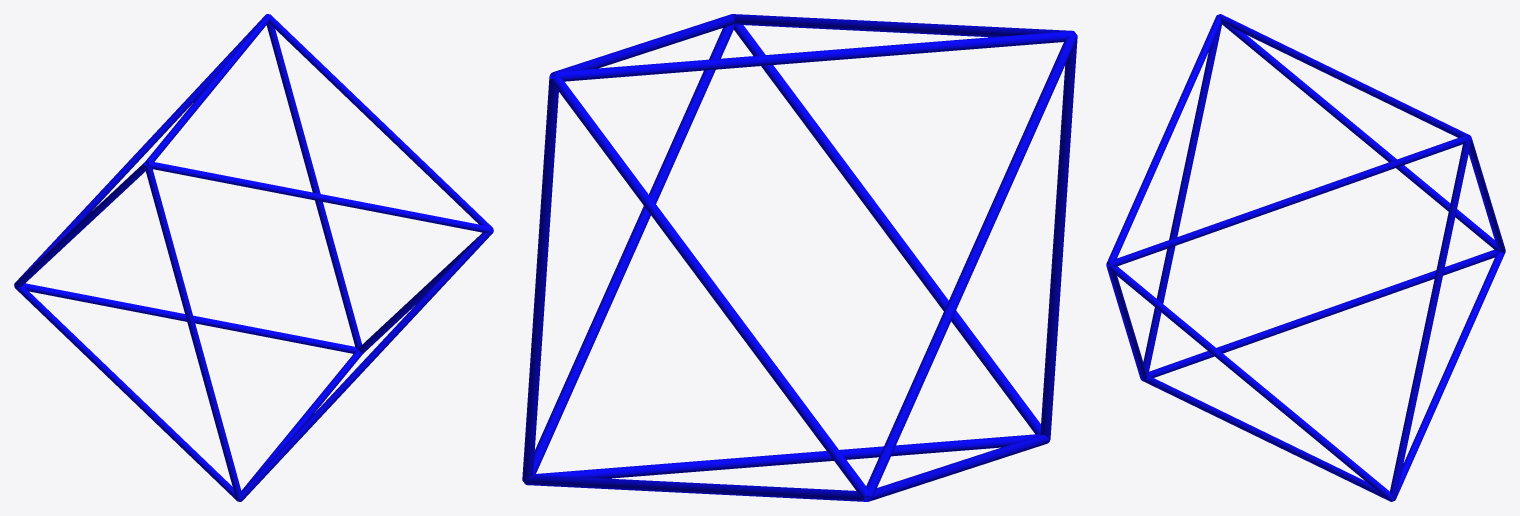
File: octahedron.obj
3 views of the same model, side by side, from view 1: azimuth 30°, elevation 25°; view 2: azimuth 150°, elevation 25°; view 3: azimuth 270°, elevation 25° (orthographic). The views are drawn at different scales.
Parts seen in each view (by area): view 1: cyl0, cyl7, cyl4, cyl2, cyl8, cyl6, cyl11, cyl5, cyl9, cyl1, cyl3, cyl10; view 2: cyl5, cyl9, cyl1, cyl0, cyl10, cyl3, cyl8, cyl4, cyl2, cyl7, cyl11, cyl6; view 3: cyl6, cyl8, cyl10, cyl11, cyl4, cyl1, cyl9, cyl7, cyl3, cyl2, cyl0, cyl5.
Boxes of the visible parts, box(x1,y1,x2,y2) form: cyl0: box(241, 231, 492, 500); cyl7: box(147, 161, 491, 232); cyl4: box(144, 164, 241, 499); cyl2: box(23, 283, 357, 353); cyl8: box(266, 23, 361, 349); cyl6: box(268, 14, 493, 229); cyl11: box(14, 286, 238, 501); cyl5: box(16, 17, 263, 281); cyl9: box(145, 14, 269, 163); cyl1: box(14, 162, 147, 287); cyl3: box(238, 350, 362, 501); cyl10: box(358, 229, 493, 353); cyl5: box(551, 76, 867, 498); cyl9: box(554, 31, 1072, 81); cyl1: box(866, 35, 1076, 497); cyl0: box(734, 24, 1040, 434); cyl10: box(533, 24, 733, 474); cyl3: box(534, 434, 1039, 478); cyl8: box(522, 75, 558, 481); cyl4: box(1040, 34, 1077, 439); cyl2: box(524, 475, 867, 501); cyl7: box(732, 14, 1075, 37); cyl11: box(867, 434, 1049, 501); cyl6: box(550, 14, 734, 76); cyl6: box(1109, 135, 1468, 266); cyl8: box(1390, 138, 1471, 499); cyl10: box(1108, 265, 1392, 501); cyl11: box(1147, 249, 1497, 377); cyl4: box(1143, 23, 1221, 374); cyl1: box(1222, 23, 1497, 250); cyl9: box(1219, 14, 1469, 137); cyl7: box(1106, 14, 1221, 264); cyl3: box(1142, 375, 1392, 501); cyl2: box(1392, 251, 1505, 501); cyl0: box(1106, 264, 1147, 380); cyl5: box(1468, 135, 1505, 252).
Bounding box in the file's own units: 0.9511 × 0.9859 × 1.05.
